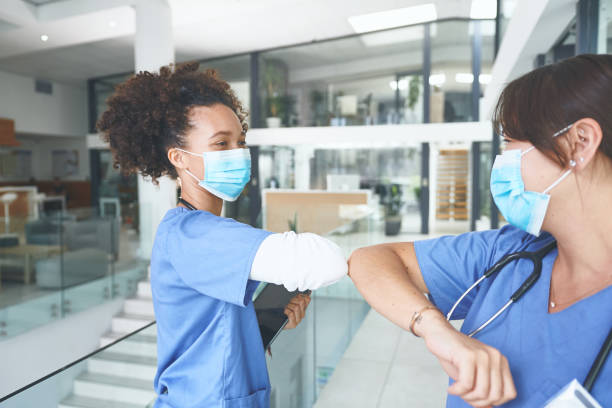with mask: (491, 102, 603, 241), (162, 80, 270, 209)
